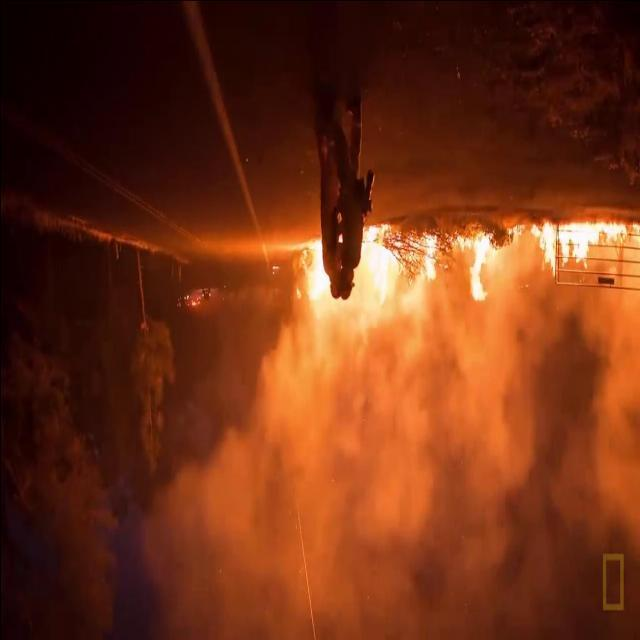Fire: (353, 221, 438, 335), (528, 218, 626, 274), (453, 228, 494, 304), (298, 240, 324, 308)
